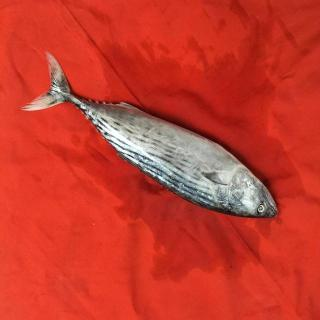Ikan: (40, 57, 288, 237)
